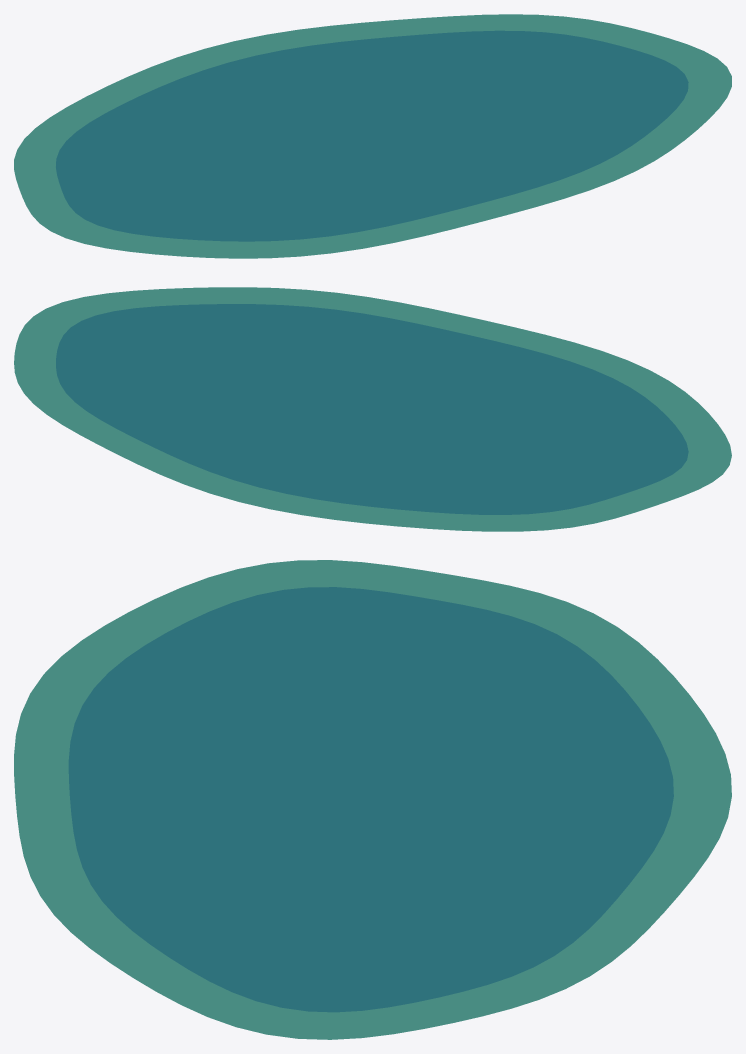
File: water_v5.obj
3 renders of one model, top to bottom at view 1: azimuth 30°, elevation 25°; view 2: azimuth 150°, elevation 25°; view 3: azimuth 270°, elevation 25°, orthographic. The views are drawn at different scales.
Parts seen in each view (by area): view 1: water_v5; view 2: water_v5; view 3: water_v5.
Boxes of the visible parts, x1,y1,x2,y2 form: water_v5: [14, 14, 731, 258]; water_v5: [14, 287, 731, 531]; water_v5: [14, 560, 731, 1039].
Bounding box in the file's own units: 43.03 × 0.008 × 27.21.
